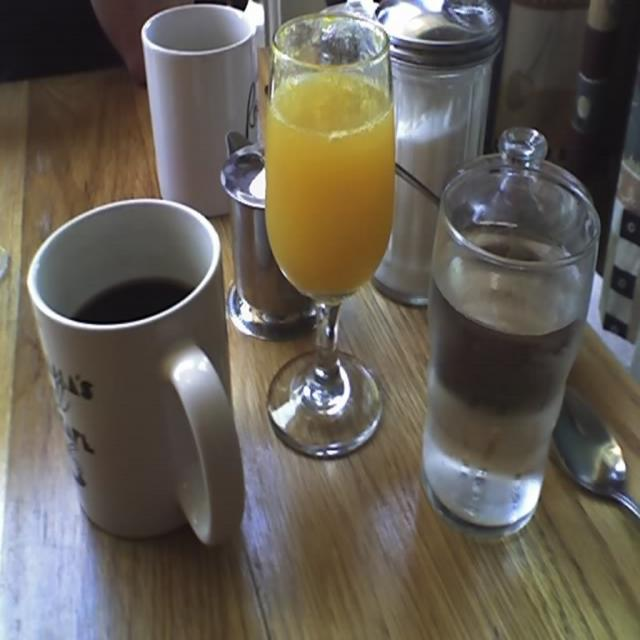Tea: (72, 282, 195, 322)
